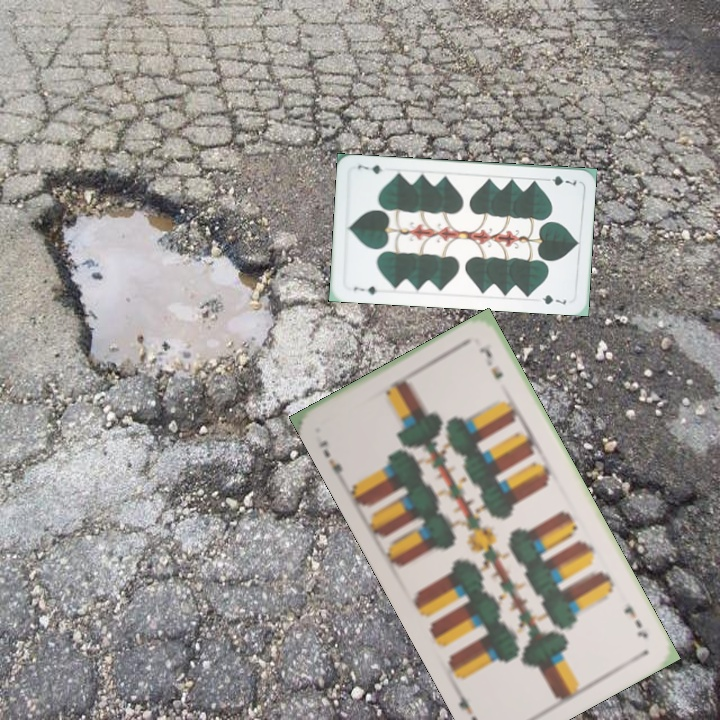E7: (314, 436, 347, 484), (619, 601, 651, 641)
G7: (539, 172, 579, 188), (349, 282, 379, 297)
